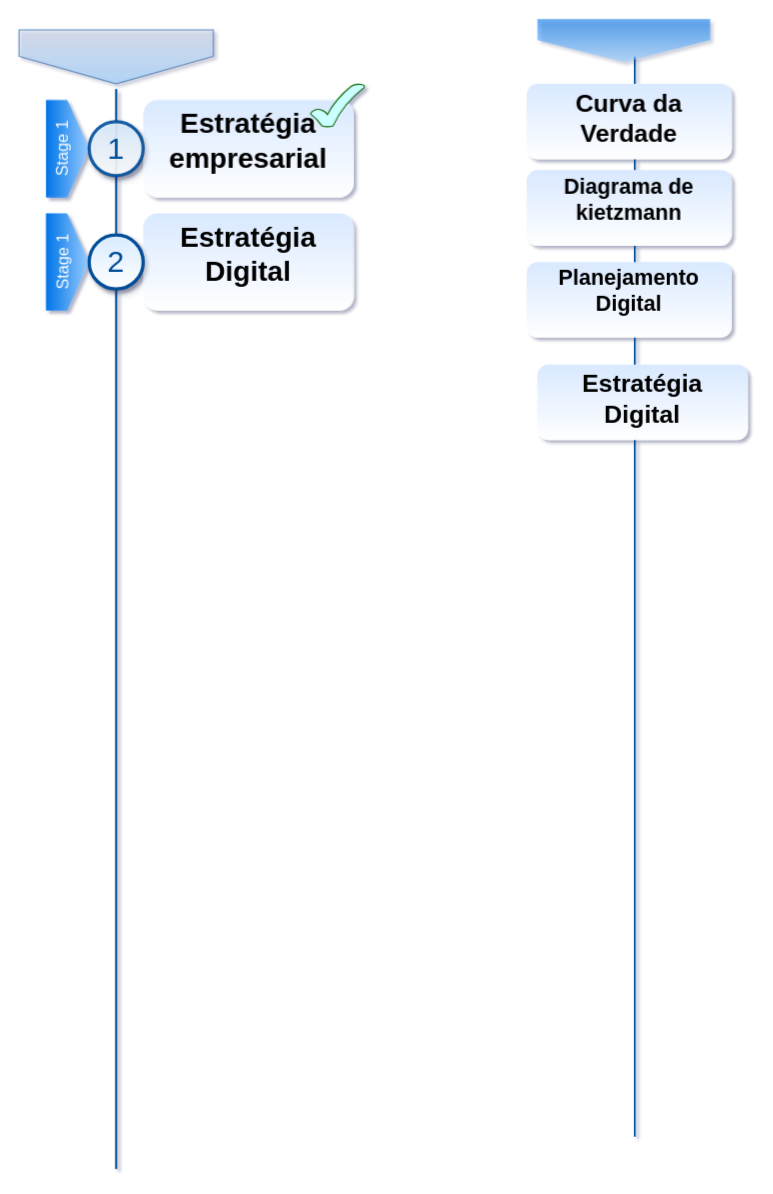
Some shapes in this 773 by 1194 pixel diagram are drawn without their labels. Each missing label, with the centre of its shape:
"Conceitos" goes at point 623,40.
"Marketing de Canais Digitais" goes at point 115,56.
